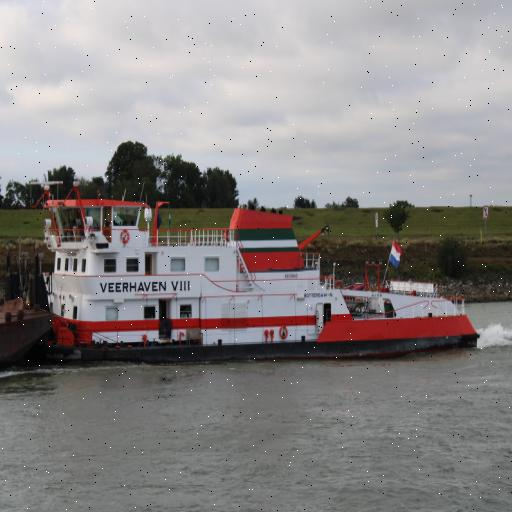tugboat: (2, 175, 485, 375)
